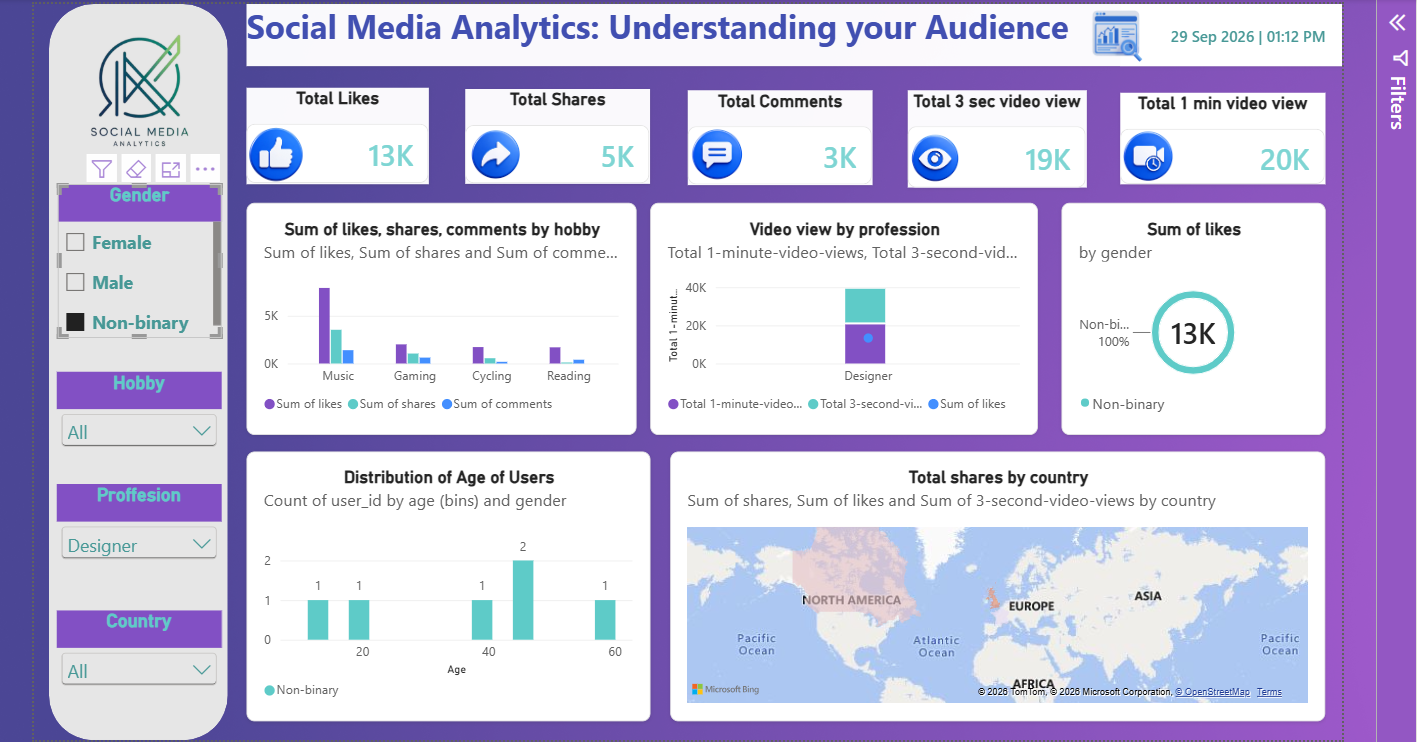

The dashboard page shown, as its layout file describes it:
{"tool":"powerbi","page":{"name":"Dashboard","canvas":[1280,720],"ordinal":0},"visuals":[{"type":"shape","box":[14.7,0,174.9,720.2],"z":1000},{"type":"textbox","box":[207.9,0,1072.4,61.1],"z":2000},{"type":"image","box":[3.7,8.6,199.3,151.6],"z":3000},{"type":"cardVisual","title":"Total Likes","fields":{"Data":["Sum(social_media_analysis.likes)"]},"box":[207.9,81.9,178.5,94.2],"z":4000},{"type":"cardVisual","title":"Total Shares","fields":{"Data":["Sum(social_media_analysis.shares)"]},"box":[421.9,83.2,181,92.9],"z":5000},{"type":"cardVisual","title":"Total Comments","fields":{"Data":["Sum(social_media_analysis.comments)"]},"box":[639.5,84.4,181,92.9],"z":6000},{"type":"cardVisual","title":"Total 1 min video view","fields":{"Data":["Sum(social_media_analysis.1-minute-video-views)"]},"box":[1062.6,86.8,200.5,89.3],"z":7000},{"type":"cardVisual","title":"Total 3 sec video view","fields":{"Data":["Sum(social_media_analysis.3-second-video-views)"]},"box":[854.8,84.4,174.9,95.4],"z":8000},{"type":"clusteredColumnChart","title":"Sum of likes, shares, comments by hobby","fields":{"Category":["social_media_analysis.hobby"],"Y":["Sum(social_media_analysis.likes)","Sum(social_media_analysis.shares)","Sum(social_media_analysis.comments)"]},"box":[207.9,194.4,381.5,227.4],"z":9000},{"type":"lineStackedColumnComboChart","title":"Video view by profession","fields":{"Category":["social_media_analysis.profession"],"Y":["Sum(social_media_analysis.1-minute-video-views)","Sum(social_media_analysis.3-second-video-views)"],"Y2":["Sum(social_media_analysis.likes)"]},"box":[602.9,194.4,379.1,227.4],"z":10000},{"type":"donutChart","fields":{"Category":["social_media_analysis.gender"],"Y":["Sum(social_media_analysis.likes)"]},"box":[1005.2,194.4,258,227.4],"z":11000},{"type":"columnChart","title":"Distribution of Age of Users","fields":{"Category":["social_media_analysis.age (bins)"],"Y":["CountNonNull(social_media_analysis.user_id)"],"Series":["social_media_analysis.gender"]},"box":[207.9,437.8,395,264.1],"z":12000},{"type":"slicer","title":"Gender","fields":{"Values":["social_media_analysis.gender"]},"box":[23.2,176.1,160.2,150.4],"z":13000},{"type":"slicer","title":"Hobby","fields":{"Values":["social_media_analysis.hobby"]},"box":[22,359.5,161.4,78.3],"z":14000},{"type":"slicer","title":"Proffesion","fields":{"Values":["social_media_analysis.profession"]},"box":[22,469.6,161.4,78.3],"z":15000},{"type":"filledMap","title":"Total shares by country","fields":{"Category":["social_media_analysis.country"]},"box":[622.4,437.8,640.8,264.1],"z":16000},{"type":"slicer","title":"Country","fields":{"Values":["social_media_analysis.country"]},"box":[22,593.1,161.4,78.3],"z":17000},{"type":"image","box":[421.9,97.8,59.9,100.3],"z":18000},{"type":"image","box":[639.5,105.2,57.5,84.4],"z":19000},{"type":"image","box":[854.8,107.6,53.8,86.8],"z":20000},{"type":"image","box":[1062.6,110.1,55,79.5],"z":21000},{"type":"image","box":[207.9,105.2,57.5,85.6],"z":22000},{"type":"cardVisual","fields":{"Data":["social_media_analysis.Last Update"]},"box":[1062.6,0,217.7,61.1],"z":23000},{"type":"image","box":[1032.1,0,53.8,61.1],"z":24000}]}

Visuals, with their boxes in screenshot pixels (x1, y1, x2, y2):
shape: 48 0 226 732
textbox: 244 0 1334 62
image: 37 9 239 163
"Total Likes" cardVisual: 244 83 426 179
"Total Shares" cardVisual: 462 85 646 179
"Total Comments" cardVisual: 683 86 867 180
"Total 1 min video view" cardVisual: 1113 88 1316 179
"Total 3 sec video view" cardVisual: 902 86 1079 183
"Sum of likes, shares, comments by hobby" clusteredColumnChart: 244 197 632 429
"Video view by profession" lineStackedColumnComboChart: 646 197 1031 429
donutChart - social_media_analysis.gender x Sum(social_media_analysis.likes): 1054 197 1317 429
"Distribution of Age of Users" columnChart: 244 445 646 713
"Gender" slicer: 57 179 220 332
"Hobby" slicer: 56 365 220 445
"Proffesion" slicer: 56 477 220 557
"Total shares by country" filledMap: 666 445 1317 713
"Country" slicer: 56 603 220 682
image: 462 99 523 201
image: 683 107 741 193
image: 902 109 956 197
image: 1113 112 1169 193
image: 244 107 303 194
cardVisual - social_media_analysis.Last Update: 1113 0 1334 62
image: 1082 0 1136 62
